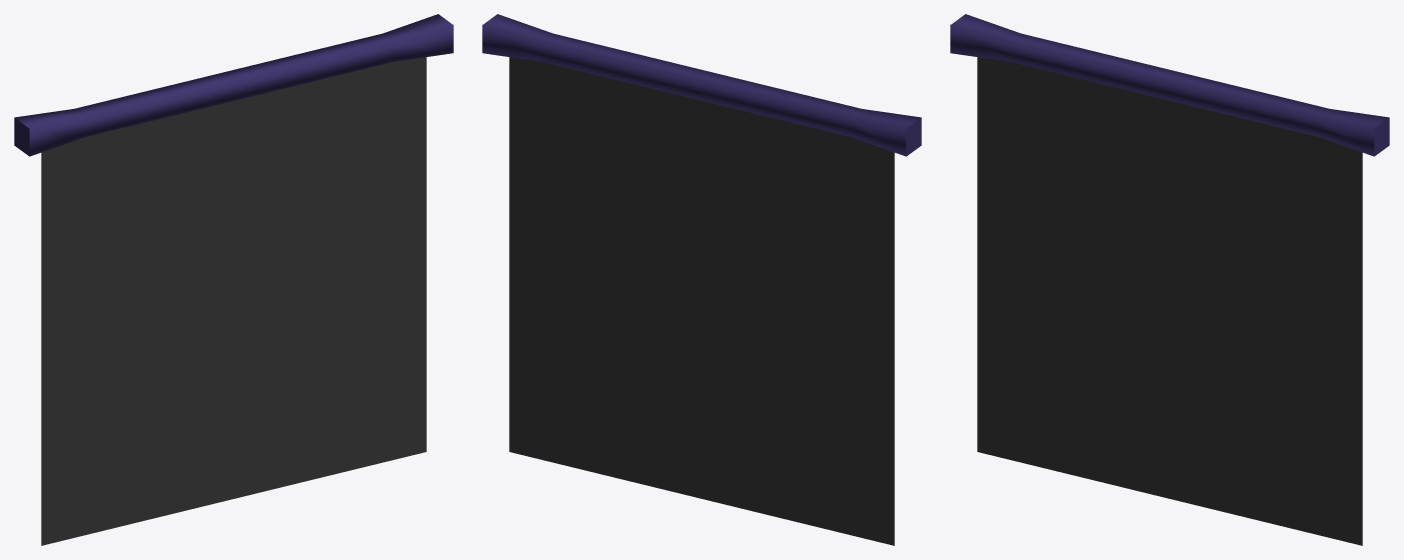
Rendered from Prop_Banner_01.FBX.
3 views of the same model, side by side, from view 1: azimuth 30°, elevation 25°; view 2: azimuth 150°, elevation 25°; view 3: azimuth 330°, elevation 25° (orthographic).
Parts seen in each view (by area): view 1: Prop_Banner_01; view 2: Prop_Banner_01; view 3: Prop_Banner_01.
Part boxes in pixels (box(x1,y1,x2,y2)): Prop_Banner_01: box(14, 14, 453, 545); Prop_Banner_01: box(482, 14, 921, 545); Prop_Banner_01: box(950, 14, 1389, 545).
Bounding box in the file's own units: 2.2 × 2.12 × 0.1384.
